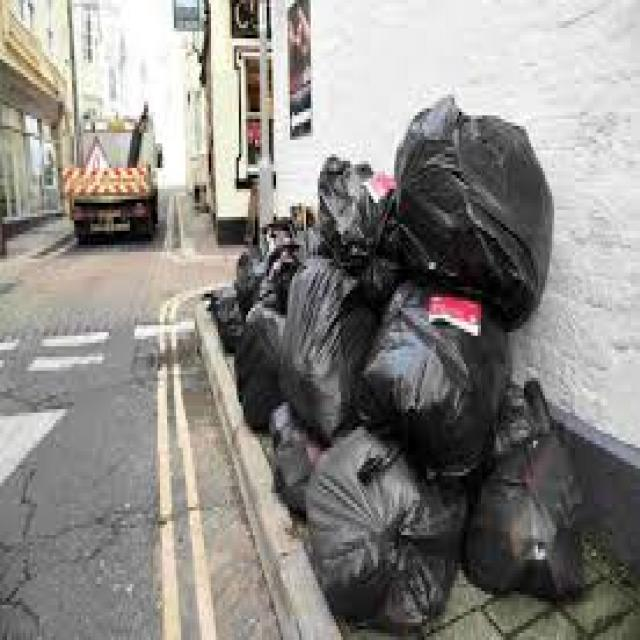plastic_bag: (398, 96, 555, 264), (300, 442, 449, 610), (365, 291, 500, 452), (476, 400, 576, 582), (282, 267, 363, 403), (317, 169, 403, 267), (230, 298, 291, 428), (270, 414, 316, 515)
